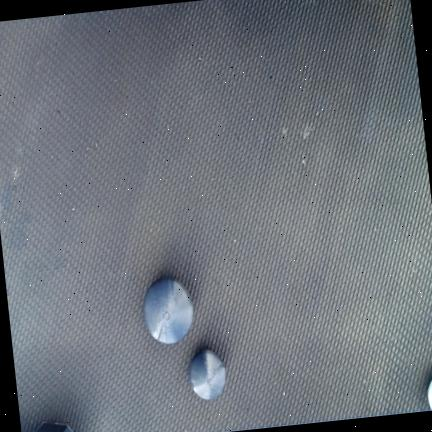Esfera: (143, 277, 194, 343), (189, 349, 226, 399)
Prisma_hexagonal: (35, 422, 74, 432)
